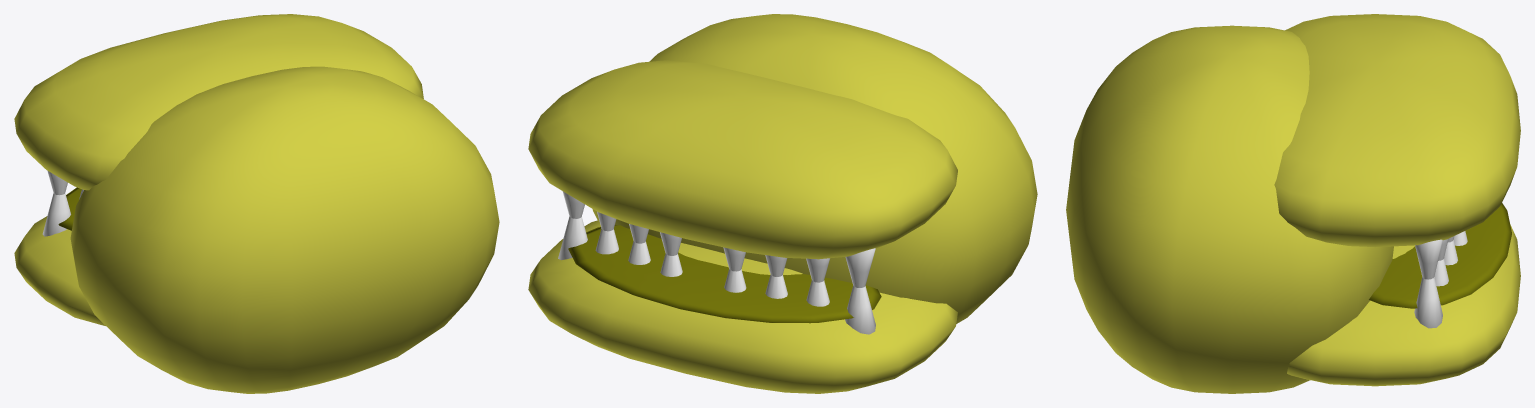
File: SaturnToadtrap.glb
3 renders of one model, left to right at view 1: azimuth 30°, elevation 25°; view 2: azimuth 150°, elevation 25°; view 3: azimuth 270°, elevation 25°, orthographic. The views are drawn at different scales.
Visible parts, largest first — view 1: Body, Head, Jaw; view 2: Head, Jaw, Body; view 3: Body, Head, Jaw.
Boxes of the visible parts, x1,y1,x2,y2 form: Body: [70, 66, 499, 393]; Head: [14, 14, 423, 195]; Jaw: [14, 187, 105, 325]; Head: [528, 60, 957, 287]; Jaw: [528, 216, 957, 393]; Body: [592, 14, 1037, 323]; Body: [1066, 25, 1393, 393]; Head: [1274, 14, 1520, 279]; Jaw: [1287, 203, 1520, 386].
Size of the model in its own units: 1.08 by 0.784 by 1.04.
Materials: 1 (1 with a texture image).
